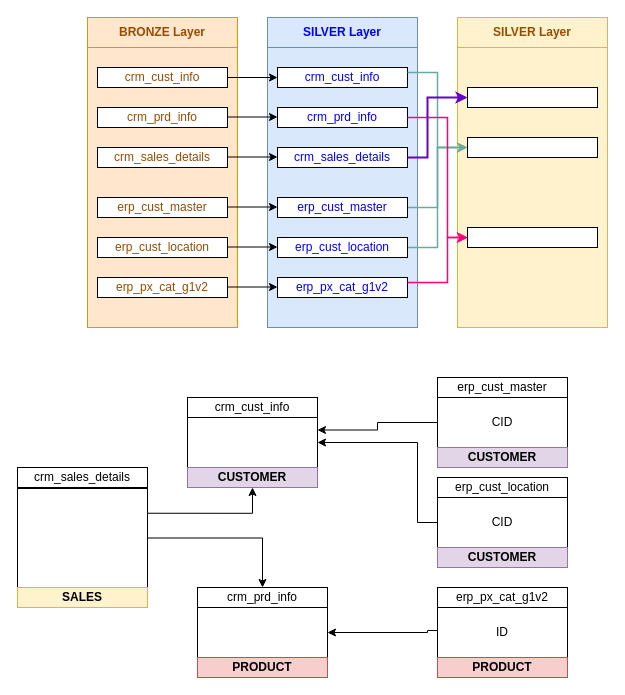
This 625x695 diagram has some shape labels left out. Here are the shapes that lost their labels. From the top down, the centre of each, then its label:
the point at 532,97: fact_sales
the point at 532,147: dim_customers
the point at 532,237: dim_products
the point at 252,442: cst_id
the point at 82,538: sls_ord_num (PK) sls_prd_key sls_cust_id
the point at 262,632: prd_key
